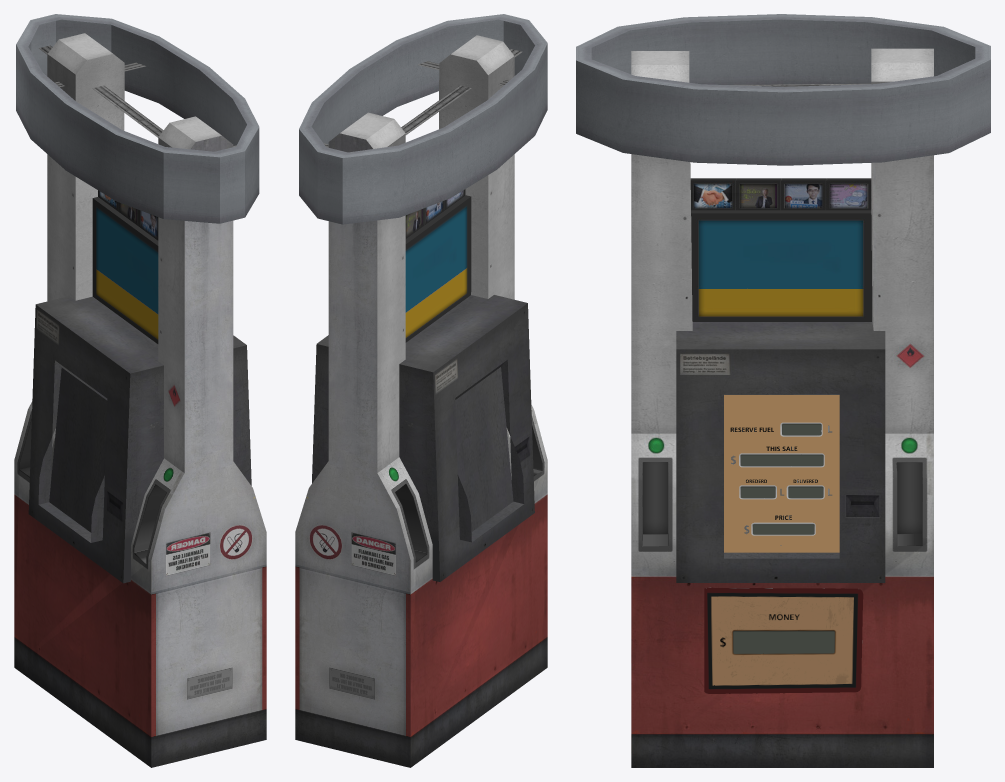
Rendered from fuel_machin.fbx.
3 renders of one model, left to right at view 1: azimuth 30°, elevation 25°; view 2: azimuth 150°, elevation 25°; view 3: azimuth 270°, elevation 25°, orthographic. The views are drawn at different scales.
Visible parts, largest first — view 1: Fuel_Machine_1; view 2: Fuel_Machine_1; view 3: Fuel_Machine_1, money, Fuel_Machine_1.001, values.002.
Boxes of the visible parts, x1,y1,x2,y2 form: Fuel_Machine_1: [14, 14, 266, 767]; Fuel_Machine_1: [295, 14, 547, 767]; Fuel_Machine_1: [576, 14, 990, 767]; money: [704, 587, 863, 693]; Fuel_Machine_1.001: [724, 395, 839, 552]; values.002: [730, 422, 832, 545].
Size of the model in its own units: 0.7234 by 2.8 by 1.55.
Materials: 5 (3 with a texture image).
